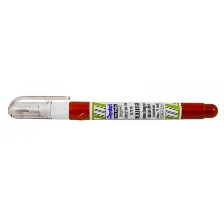correction_fluid: (5, 93, 220, 125)
